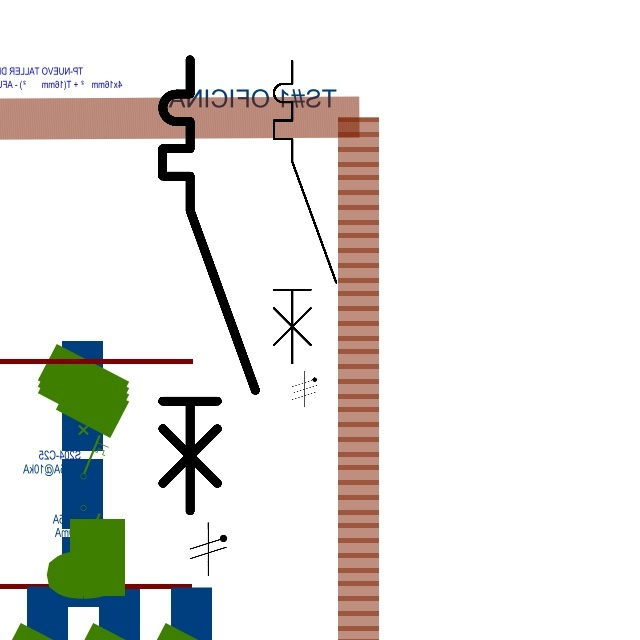interruptor_termomagnetico: (151, 48, 267, 522), (266, 53, 344, 371)
